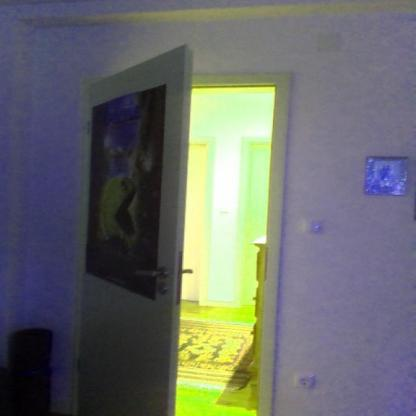door: (73, 32, 296, 416)
